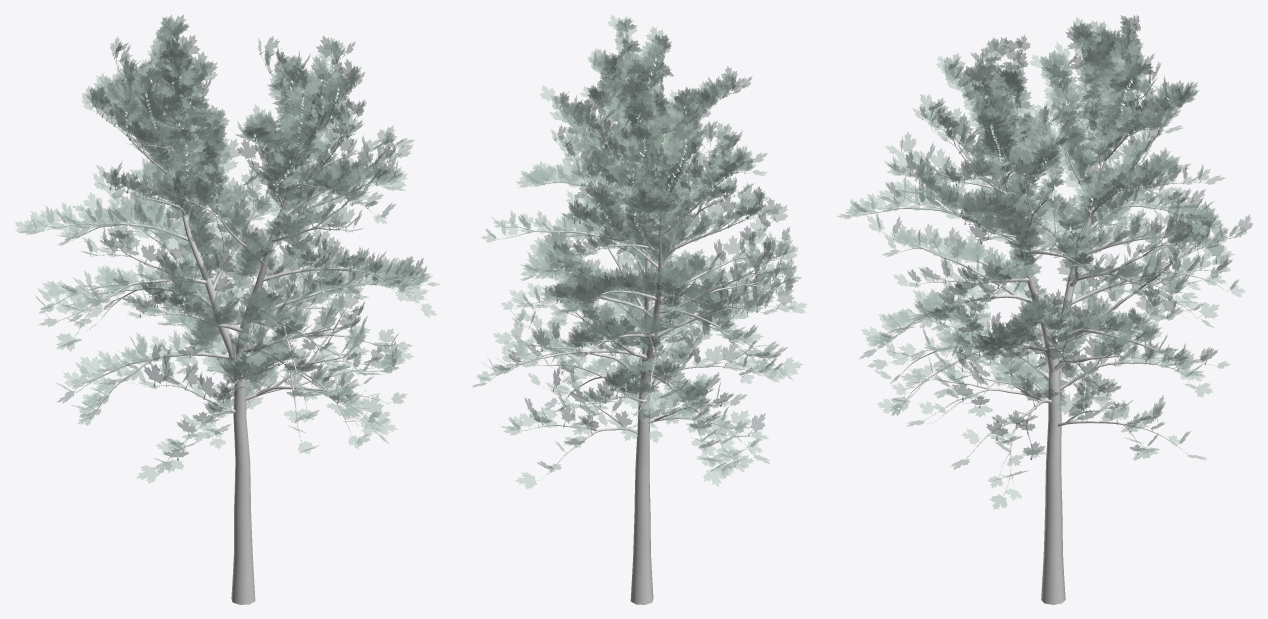
File: Tree.glb
3 renders of one model, left to right at view 1: azimuth 30°, elevation 25°; view 2: azimuth 150°, elevation 25°; view 3: azimuth 270°, elevation 25°, orthographic. The views are drawn at different scales.
Parts seen in each view (by area): view 1: tree, leaves; view 2: tree, leaves; view 3: tree, leaves.
Part boxes in pixels (bbox=[...]): tree: bbox=[37, 55, 422, 604]; leaves: bbox=[34, 37, 424, 469]; tree: bbox=[490, 30, 787, 604]; leaves: bbox=[488, 29, 787, 480]; tree: bbox=[859, 46, 1239, 604]; leaves: bbox=[859, 29, 1241, 493].
Bounding box in the file's own units: 9.97 × 16.55 × 11.04.
1 material, 1 textured.
